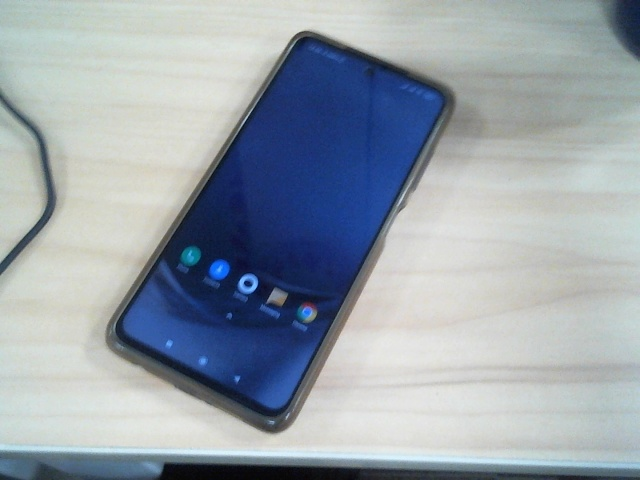handphone: (103, 30, 456, 434)
